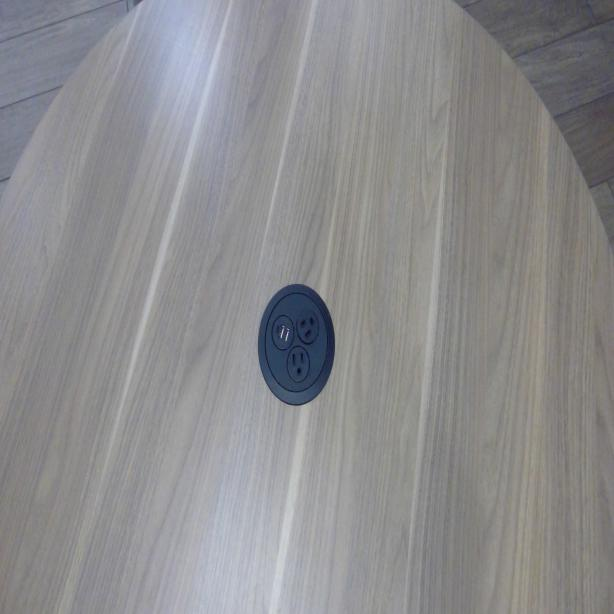typeb: (299, 310, 317, 340), (290, 348, 307, 379)
